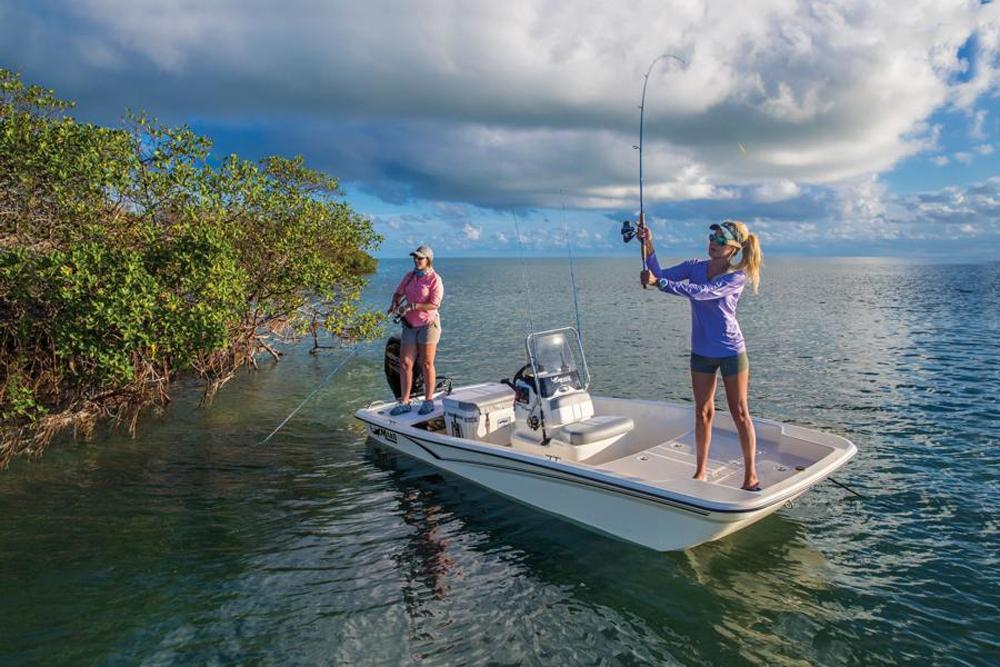fishing boat: (353, 213, 865, 558)
